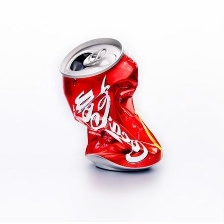can: (56, 35, 166, 177)
